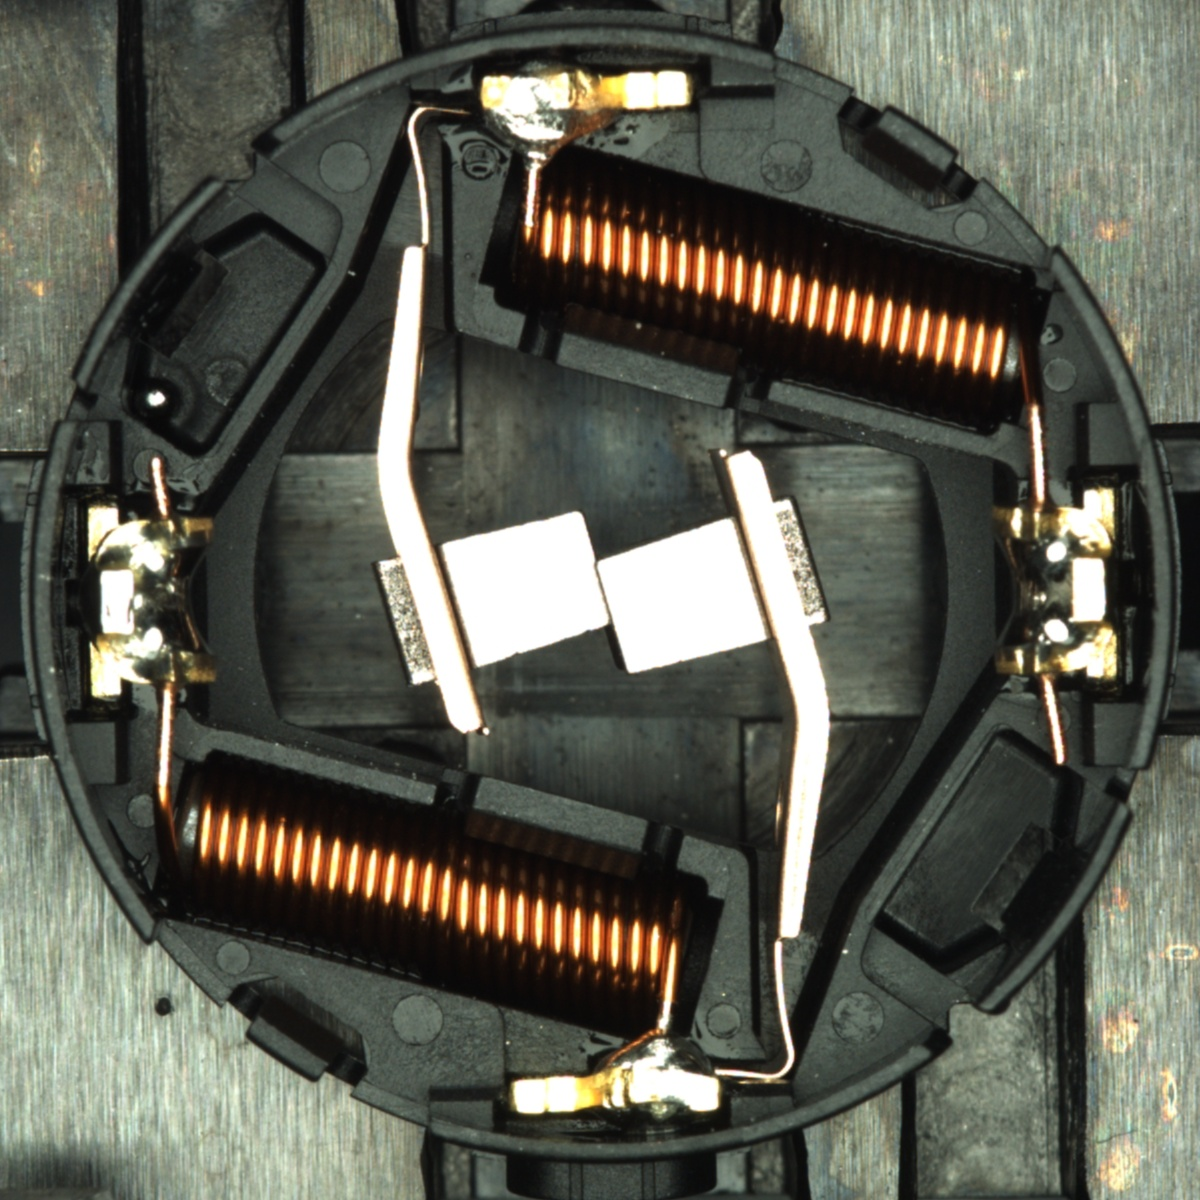1: (712, 929, 942, 1154), (254, 32, 482, 256)
2: (254, 929, 482, 1154), (712, 32, 942, 256)
3: (24, 256, 254, 480), (942, 704, 1170, 929)
4: (712, 704, 942, 929), (254, 256, 482, 480)
5: (482, 816, 712, 1042), (482, 144, 712, 368)
6: (712, 256, 942, 480), (254, 704, 482, 929)
7: (24, 704, 254, 929), (942, 256, 1170, 480)
cacbon: (397, 499, 798, 686)
chau_dien: (82, 499, 221, 700), (984, 488, 1123, 685)
hat_chi: (135, 378, 178, 422)
tay_choi: (479, 68, 696, 168), (510, 1024, 722, 1119)
thanh_de: (955, 788, 1142, 1030), (60, 165, 244, 401)
